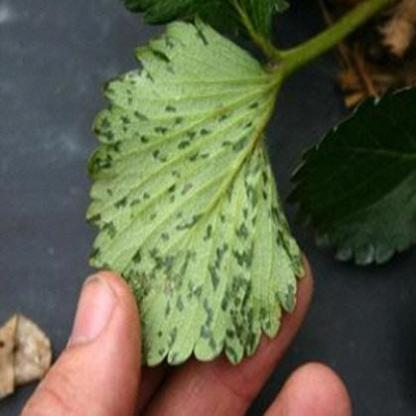Strawberry_Angular_LeafSpot: (83, 14, 307, 368)
